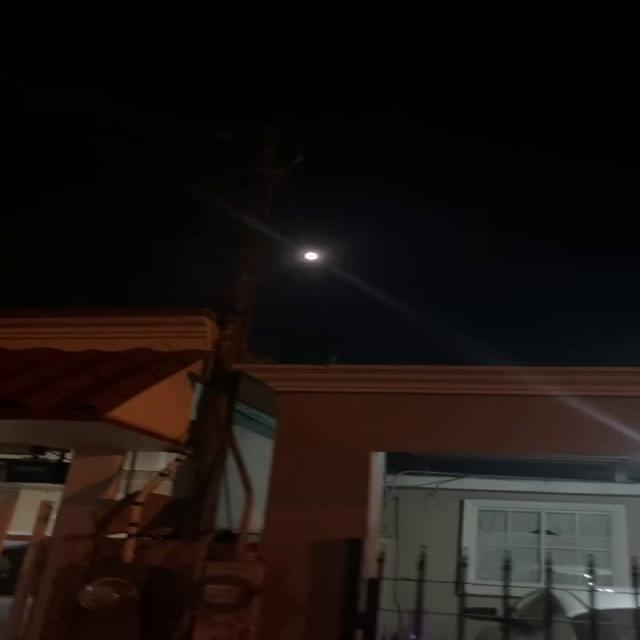moon: (293, 241, 326, 271)
